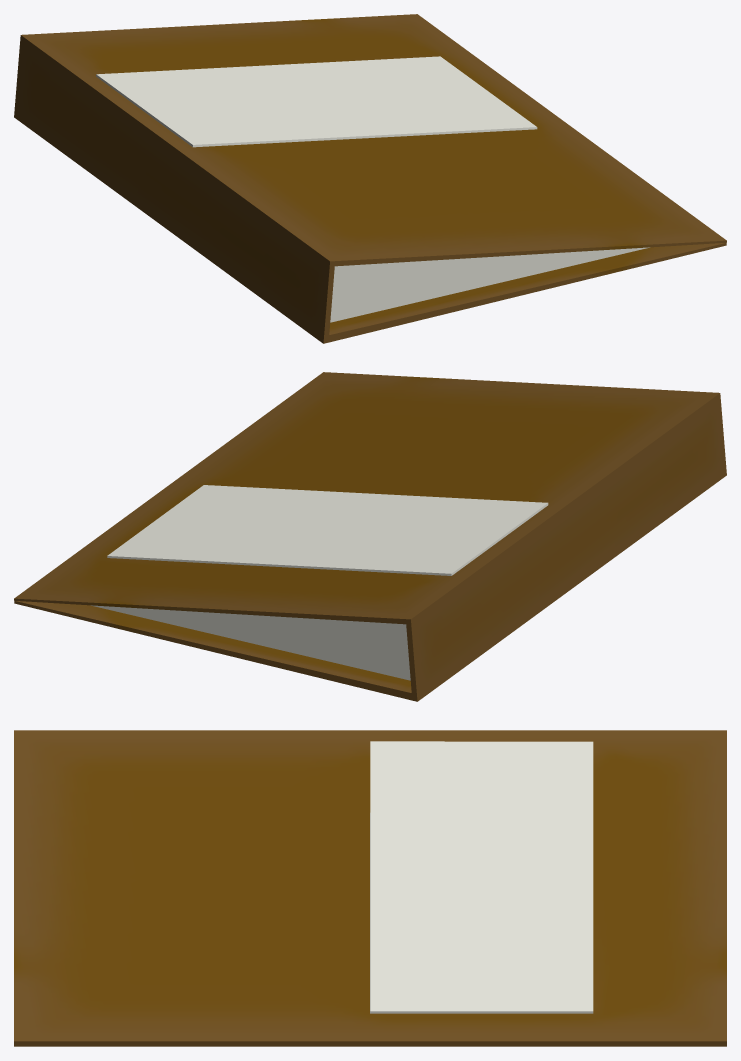
The model's file is FileFolderB.fbx.
3 views of the same model, one above another, from view 1: azimuth 30°, elevation 25°; view 2: azimuth 150°, elevation 25°; view 3: azimuth 270°, elevation 25° (orthographic). The views are drawn at different scales.
Visible parts, largest first — view 1: FileFolderB; view 2: FileFolderB; view 3: FileFolderB.
Part boxes in pixels (<box>): FileFolderB: <box>14,14,726,343</box>; FileFolderB: <box>14,372,726,701</box>; FileFolderB: <box>14,730,726,1046</box>.
Size of the model in its own units: 26.95 by 5.16 by 35.8.
Materials: 1 (1 with a texture image).
